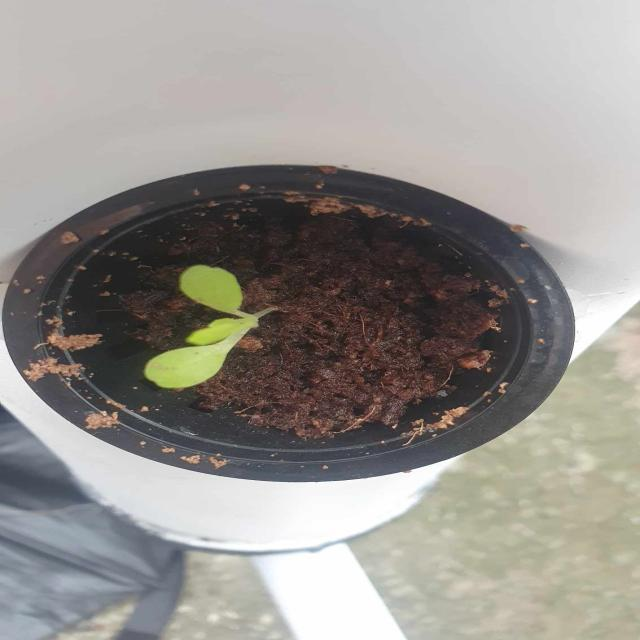Lettuce-Not-Ready-to-Harvest: (143, 255, 278, 403)
